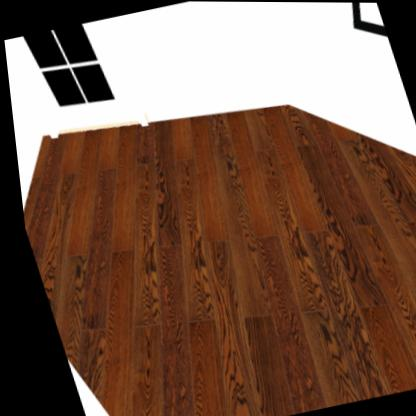Wooden floor: (18, 104, 416, 416)
